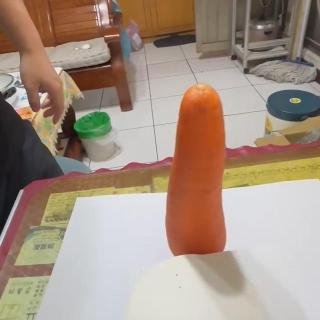carrot: (165, 83, 227, 255)
